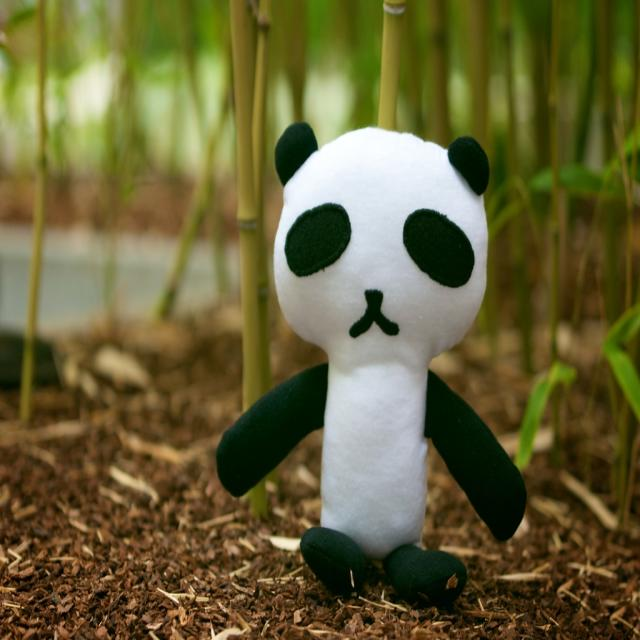panda: (214, 118, 530, 598)
